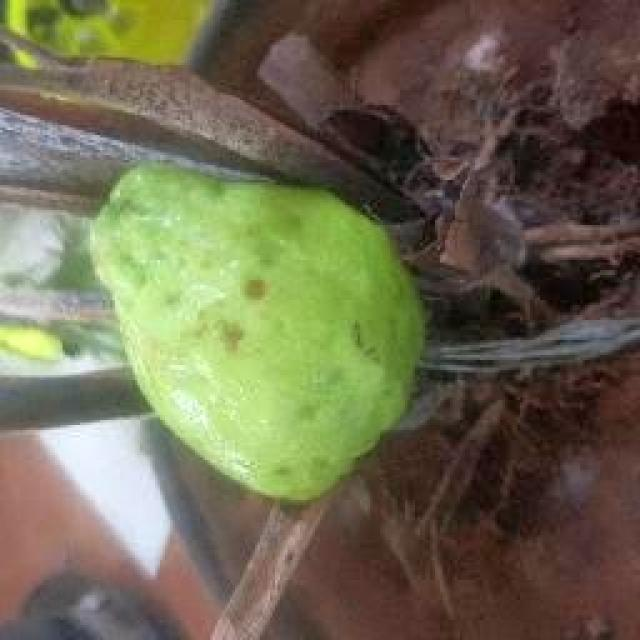Good_Guava: (88, 162, 425, 508)
